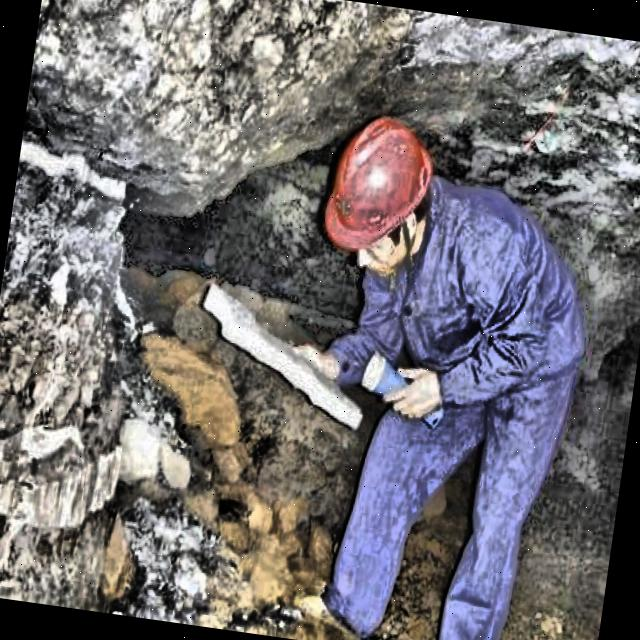helmet: (306, 97, 456, 299)
